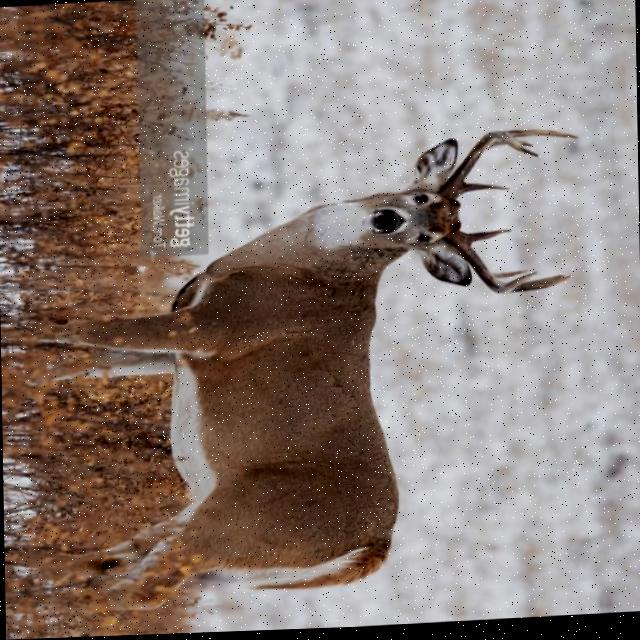L-F: (440, 134, 539, 201)
L-G1: (462, 185, 510, 196)
R-F: (444, 233, 538, 297)
R-G1: (466, 231, 511, 244)
R-G2: (491, 273, 529, 281)
